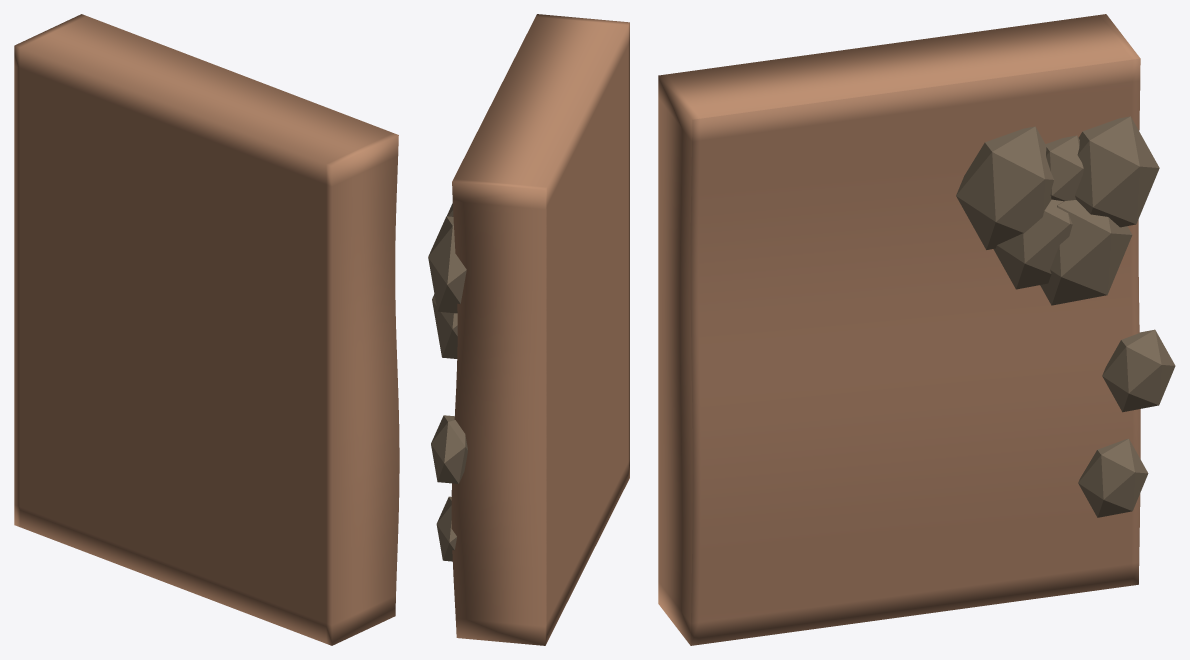
Rendered from POT2.glb.
3 renders of one model, left to right at view 1: azimuth 30°, elevation 25°; view 2: azimuth 150°, elevation 25°; view 3: azimuth 270°, elevation 25°, orthographic. The views are drawn at different scales.
Parts seen in each view (by area): view 1: POT2_panel; view 2: POT2_panel, POT2_crust2, POT2_crust5, POT2_crust4, POT2_crust1; view 3: POT2_panel, POT2_crust6, POT2_crust2, POT2_crust4, POT2_crust5, POT2_crust1, POT2_crust0, POT2_crust3.
Part boxes in pixels (x1=…): POT2_panel: x1=14, y1=14, x2=399, y2=645; POT2_panel: x1=451, y1=14, x2=629, y2=645; POT2_crust2: x1=428, y1=216, x2=466, y2=313; POT2_crust5: x1=431, y1=415, x2=467, y2=483; POT2_crust4: x1=432, y1=294, x2=457, y2=358; POT2_crust1: x1=436, y1=496, x2=456, y2=561; POT2_panel: x1=658, y1=14, x2=1140, y2=645; POT2_crust6: x1=956, y1=126, x2=1053, y2=249; POT2_crust2: x1=1075, y1=116, x2=1159, y2=227; POT2_crust4: x1=1040, y1=200, x2=1132, y2=305; POT2_crust5: x1=1102, y1=329, x2=1175, y2=412; POT2_crust1: x1=1078, y1=438, x2=1148, y2=517; POT2_crust0: x1=993, y1=199, x2=1072, y2=289; POT2_crust3: x1=1045, y1=135, x2=1083, y2=201.
Bounding box in the file's own units: 0.056 × 0.13 × 0.1153.
